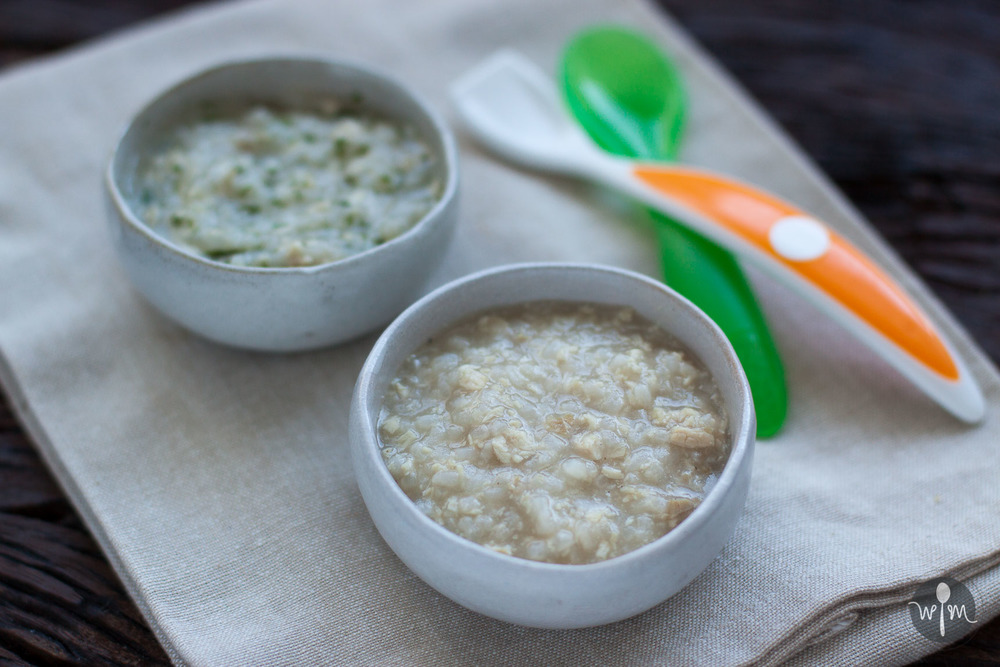plain rice: (442, 336, 640, 511)
